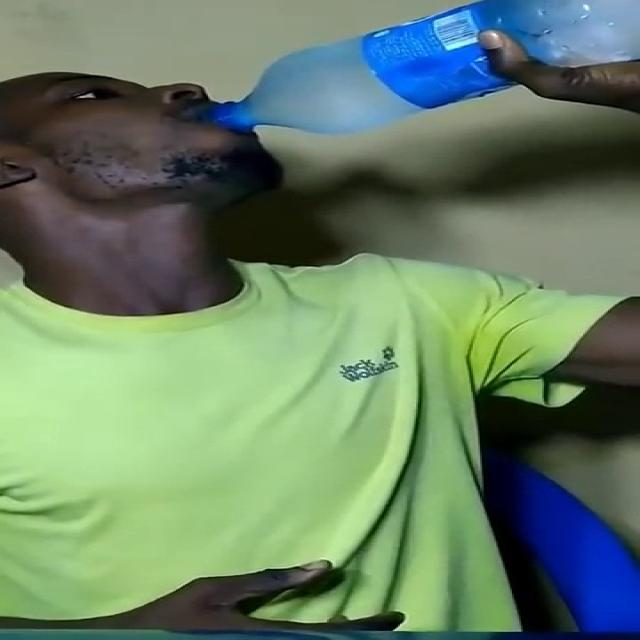Bottle: (207, 1, 638, 136)
Hand: (460, 4, 640, 114)
Mouth: (161, 109, 252, 132)
